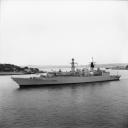Fragata: (11, 55, 122, 90)
